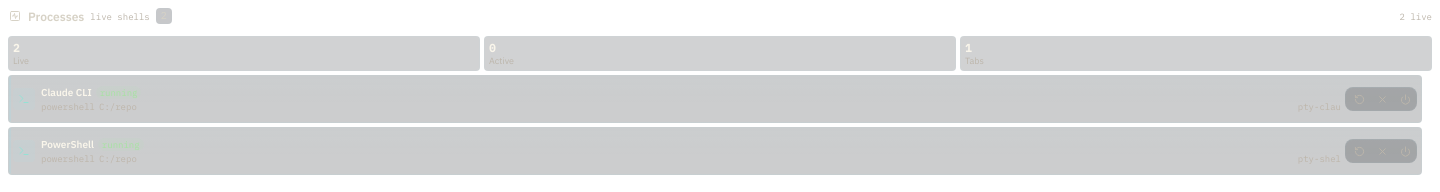
Scenario: ProcessManagerPanel › locks all actions for a process while an end confirmation is pending
Click the button named "End Claude CLI".
click(1405, 99)  # box [1394,88,1416,110]
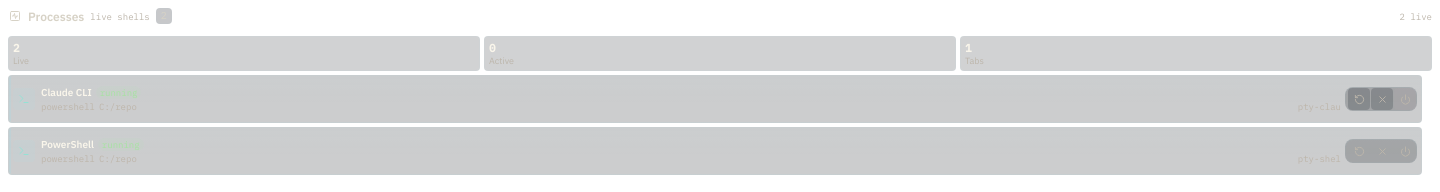
Check: the button named "Close PowerShell pane" is enabled, box [1371,140,1393,162]
Check: the button named "Restart Claude CLI" is disabled, box [1348,88,1370,110]
Check: the button named "Close Claude CLI pane" is disabled, box [1371,88,1393,110]
